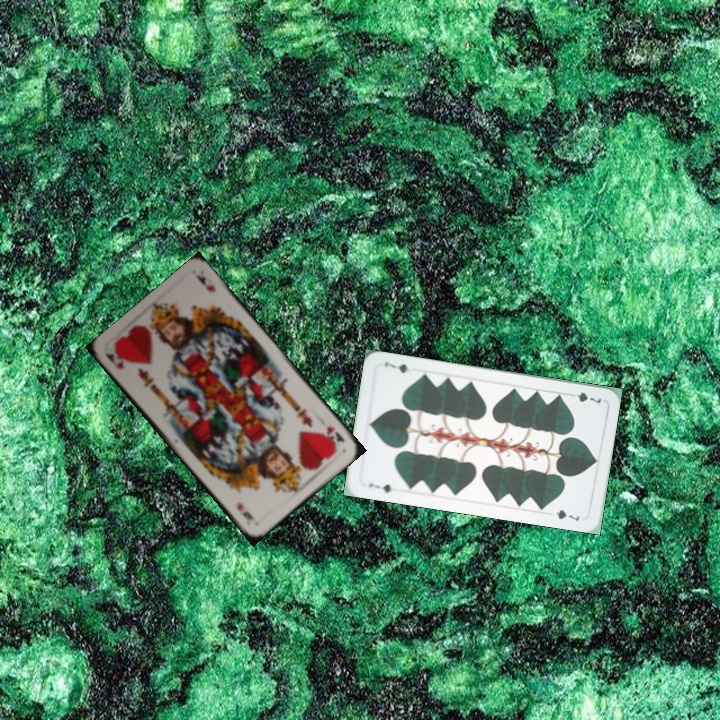G7: (564, 388, 604, 406), (364, 479, 395, 495)
HK: (322, 422, 348, 452), (102, 346, 127, 371)
